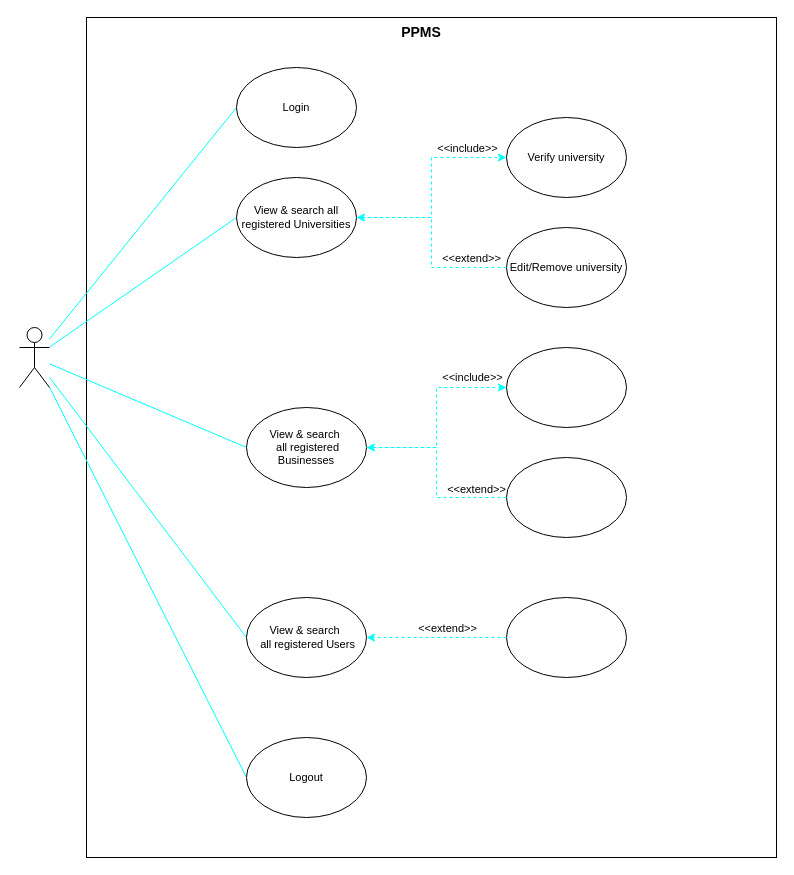
Image size: 794x875. Some labels were removed from this diagram. Here are the shapes that lost their labels. From the top down, the centre of each, then its label:
point 34,357: Admin
point 566,387: Verify business
point 566,497: Edit/Remove business
point 566,637: Edit/Remove user
